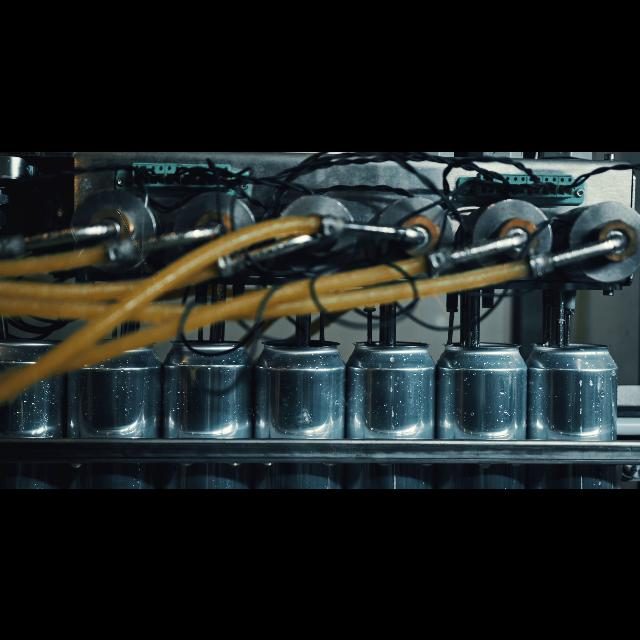empty: (254, 328, 342, 488), (71, 336, 161, 488), (442, 332, 528, 488), (533, 330, 617, 488), (352, 332, 434, 488), (170, 334, 246, 488), (0, 334, 64, 488)
